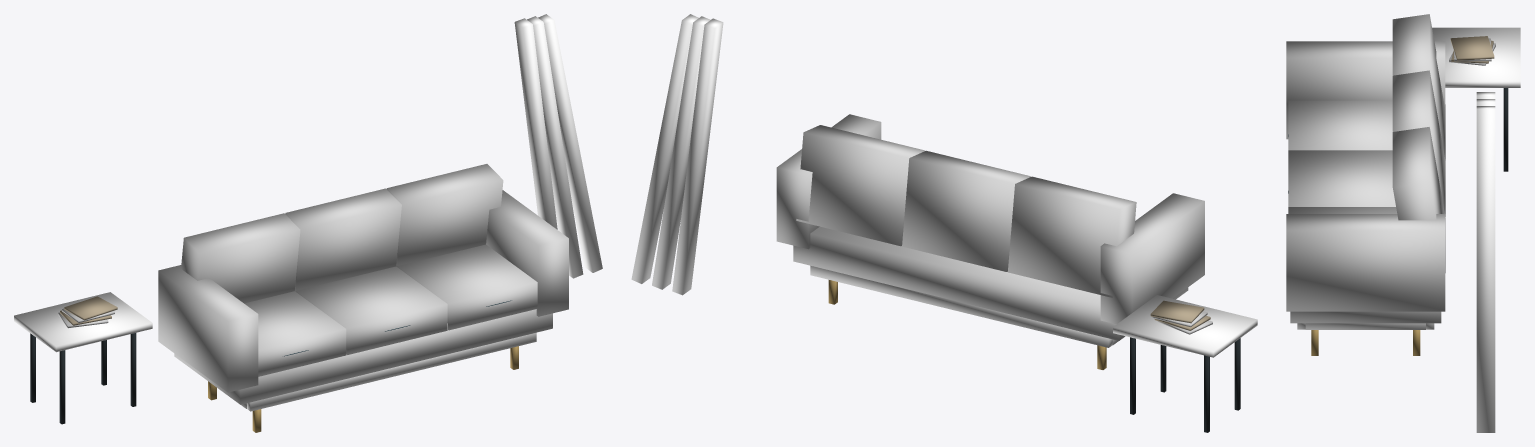
Rendered from original_furniture_reveal.glb.
3 views of the same model, side by side, from view 1: azimuth 30°, elevation 25°; view 2: azimuth 150°, elevation 25°; view 3: azimuth 270°, elevation 25° (orthographic). The views are drawn at different scales.
Parts seen in each view (by area): view 1: Rounded upholstered arm, Relaxed pillowed back 2, Deep plush seat 2, Relaxed pillowed back 3, Relaxed pillowed back 1, Floating upholstered base, Deep plush seat 3, Rounded upholstered arm.001, Deep plush seat 1, Leaning oak stock 2, Leaning oak stock 1, Leaning oak stock 0 (+3 smaller); view 2: Floating upholstered base, Relaxed pillowed back 2, Relaxed pillowed back 1, Relaxed pillowed back 3, Rounded upholstered arm, Leaning oak stock 0, Leaning oak stock 1, Leaning oak stock 2, Oak material worktable, Rounded upholstered arm.001, Rear hardwood structural rail, Folded material sample 3; view 3: Rounded upholstered arm.001, Rounded upholstered arm, Leaning oak stock 2, Deep plush seat 2, Deep plush seat 1, Relaxed pillowed back 3, Oak material worktable, Relaxed pillowed back 2, Relaxed pillowed back 1, Floating upholstered base, Folded material sample 3, Right hardwood structural rail (+2 smaller).
Part boxes in pixels (left/top/right/bottom): Rounded upholstered arm: left=158, top=265, right=258, bottom=392; Relaxed pillowed back 2: left=285, top=188, right=401, bottom=291; Deep plush seat 2: left=295, top=266, right=447, bottom=354; Relaxed pillowed back 3: left=386, top=164, right=503, bottom=265; Relaxed pillowed back 1: left=181, top=213, right=300, bottom=303; Floating upholstered base: left=174, top=309, right=552, bottom=404; Deep plush seat 3: left=396, top=244, right=537, bottom=330; Rounded upholstered arm.001: left=486, top=190, right=568, bottom=316; Deep plush seat 1: left=244, top=291, right=346, bottom=376; Leaning oak stock 2: left=538, top=14, right=602, bottom=272; Leaning oak stock 1: left=527, top=16, right=583, bottom=278; Leaning oak stock 0: left=514, top=18, right=557, bottom=229; Floating upholstered base: left=793, top=226, right=1188, bottom=340; Relaxed pillowed back 2: left=902, top=150, right=1030, bottom=271; Relaxed pillowed back 1: left=1008, top=176, right=1136, bottom=297; Relaxed pillowed back 3: left=796, top=125, right=924, bottom=246; Rounded upholstered arm: left=1100, top=193, right=1204, bottom=324; Leaning oak stock 0: left=672, top=18, right=723, bottom=295; Leaning oak stock 1: left=652, top=16, right=710, bottom=289; Leaning oak stock 2: left=631, top=14, right=698, bottom=283; Oak material worktable: left=1113, top=295, right=1257, bottom=357; Rounded upholstered arm.001: left=776, top=114, right=881, bottom=249; Rear hardwood structural rail: left=810, top=265, right=1112, bottom=347; Folded material sample 3: left=1150, top=300, right=1204, bottom=323; Rounded upholstered arm.001: left=1286, top=214, right=1445, bottom=311; Rounded upholstered arm: left=1286, top=41, right=1445, bottom=139; Leaning oak stock 2: left=1476, top=106, right=1495, bottom=432; Deep plush seat 2: left=1288, top=150, right=1395, bottom=206; Deep plush seat 1: left=1288, top=100, right=1392, bottom=150; Relaxed pillowed back 3: left=1392, top=127, right=1445, bottom=272; Oak material worktable: left=1432, top=27, right=1520, bottom=87; Relaxed pillowed back 2: left=1392, top=70, right=1445, bottom=216; Relaxed pillowed back 1: left=1392, top=14, right=1445, bottom=160; Floating upholstered base: left=1290, top=311, right=1441, bottom=323; Folded material sample 3: left=1450, top=36, right=1494, bottom=60; Right hardwood structural rail: left=1305, top=323, right=1425, bottom=329.
Size of what is drawn, in the model's own units: 5.61 by 2.55 by 1.76.
